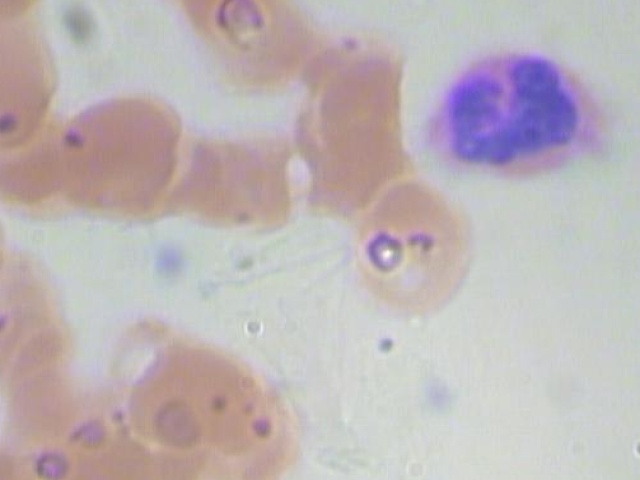Platelets: (413, 371, 465, 417), (144, 237, 195, 283)
RBC: (123, 312, 266, 467), (353, 170, 487, 327), (56, 76, 189, 233), (183, 115, 306, 241), (175, 0, 298, 83), (0, 12, 76, 136)
WBC: (407, 38, 625, 183)
